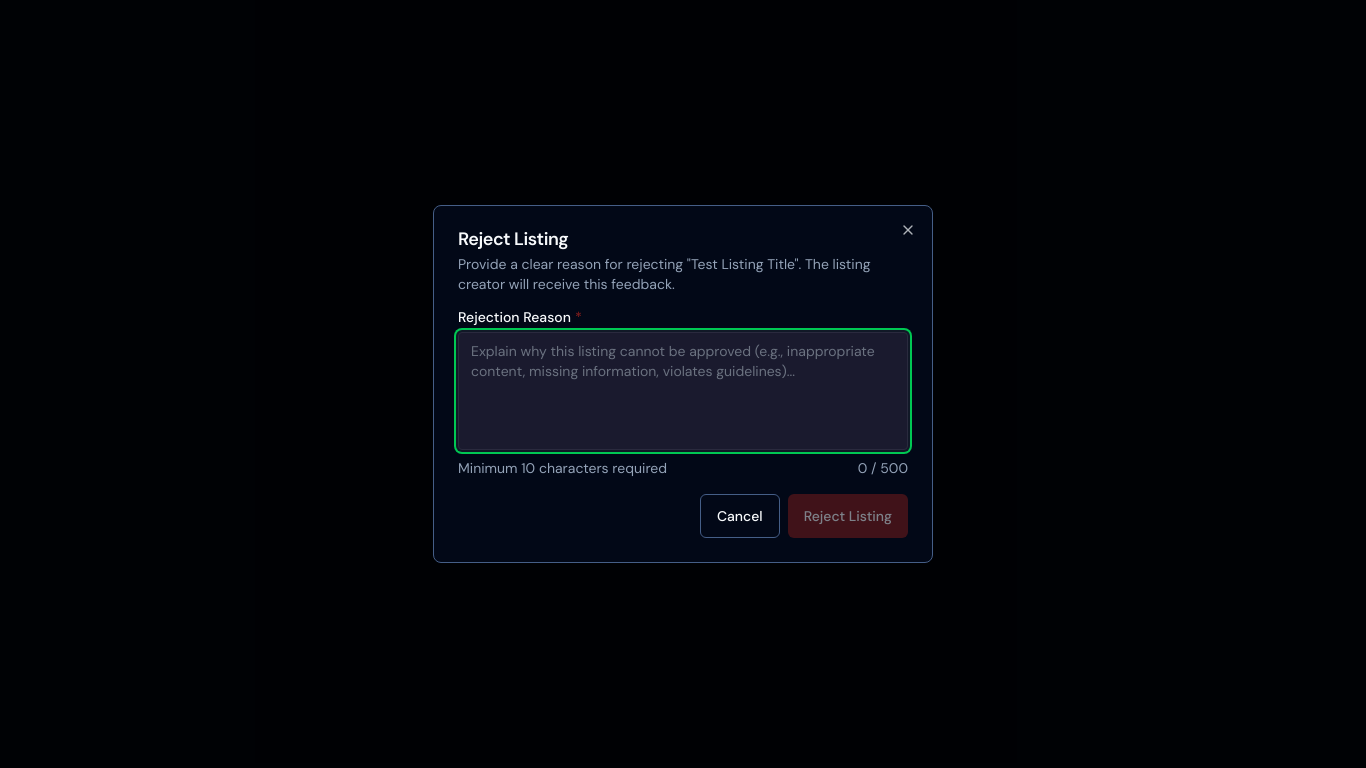
RejectListingModal › updates character count as user types
The image size is (1366, 768).
In the text box labelled "Rejection Reason*": (683, 391) [458,332,908,450], type "Test reason"
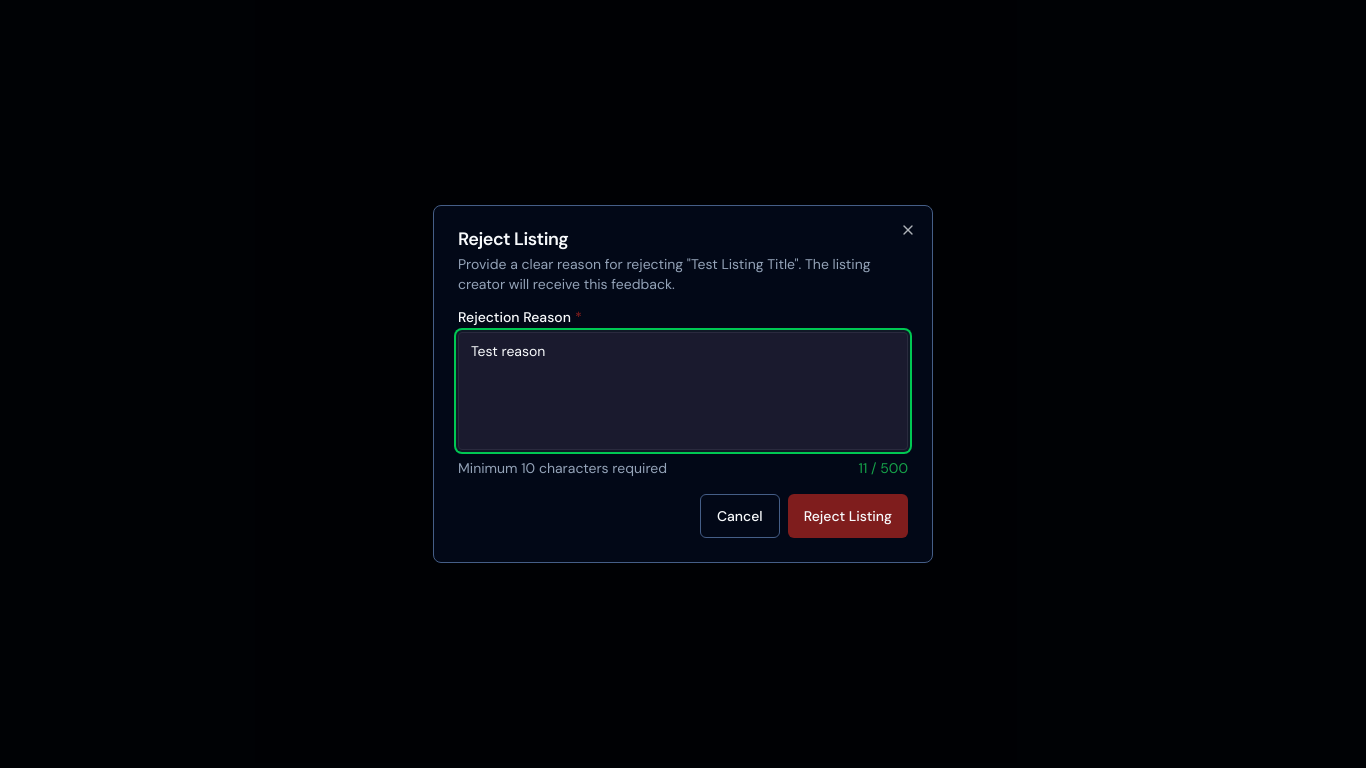
Result: the text "11 / 500" is shown at [859,458,908,478]
